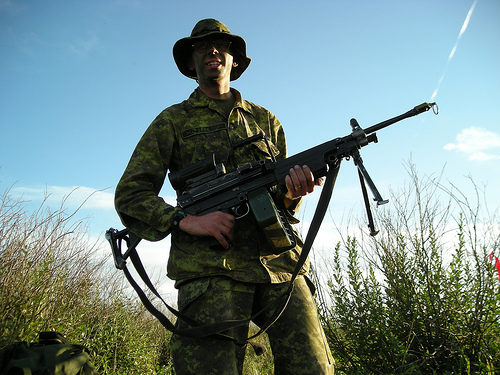rifle: (289, 101, 432, 165)
rifle in hand: (192, 108, 448, 237)
